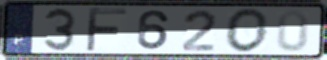0: (275, 8, 312, 54)
2: (181, 8, 220, 53)
3: (42, 6, 78, 53)
6: (136, 8, 171, 51)
F: (84, 6, 130, 53)
O: (224, 7, 271, 54)
